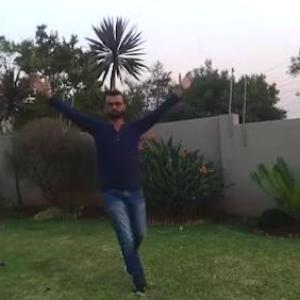takeoff: (28, 74, 194, 286)
